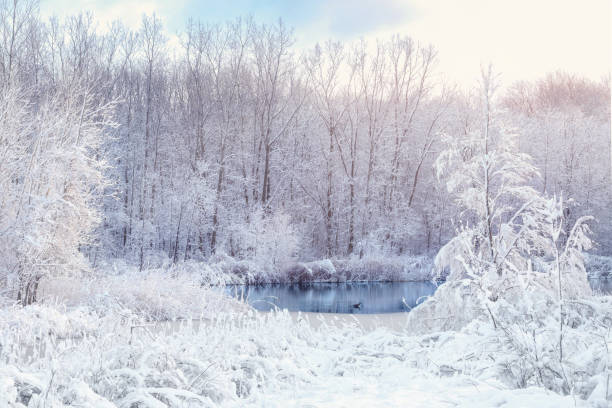goose: (350, 301, 363, 309)
